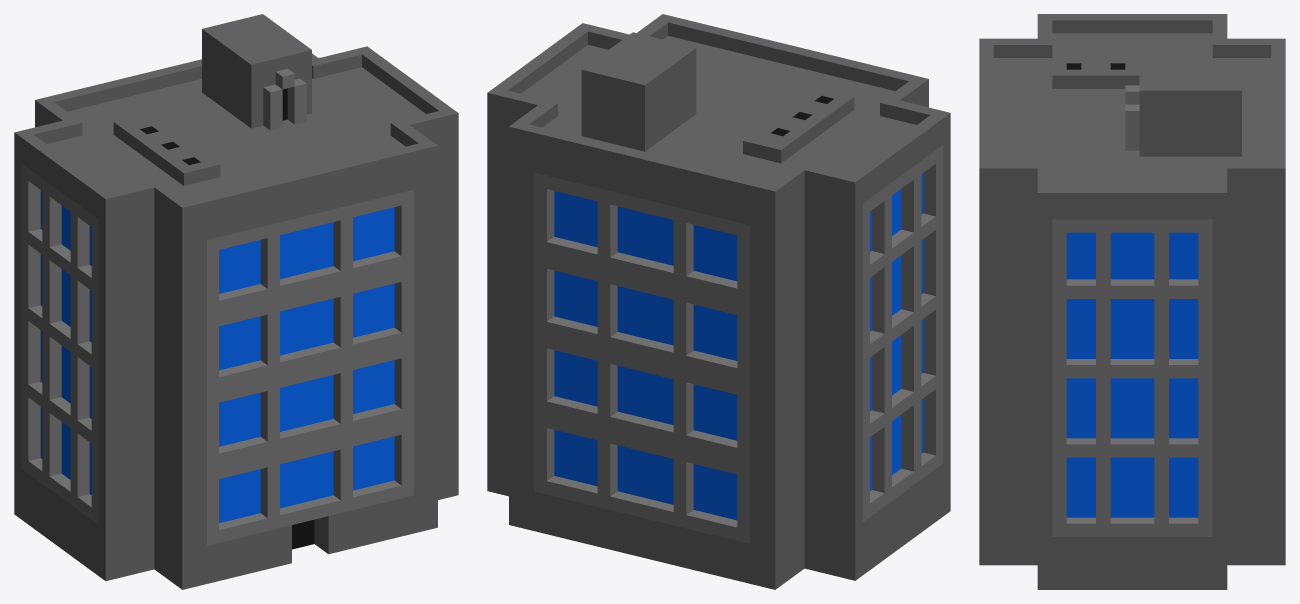
File: Building 4.obj
3 renders of one model, left to right at view 1: azimuth 30°, elevation 25°; view 2: azimuth 150°, elevation 25°; view 3: azimuth 270°, elevation 25°, orthographic. The views are drawn at different scales.
Bounding box in the file's own units: 2.9 × 3.4 × 2.1.
1 material, 1 textured.
